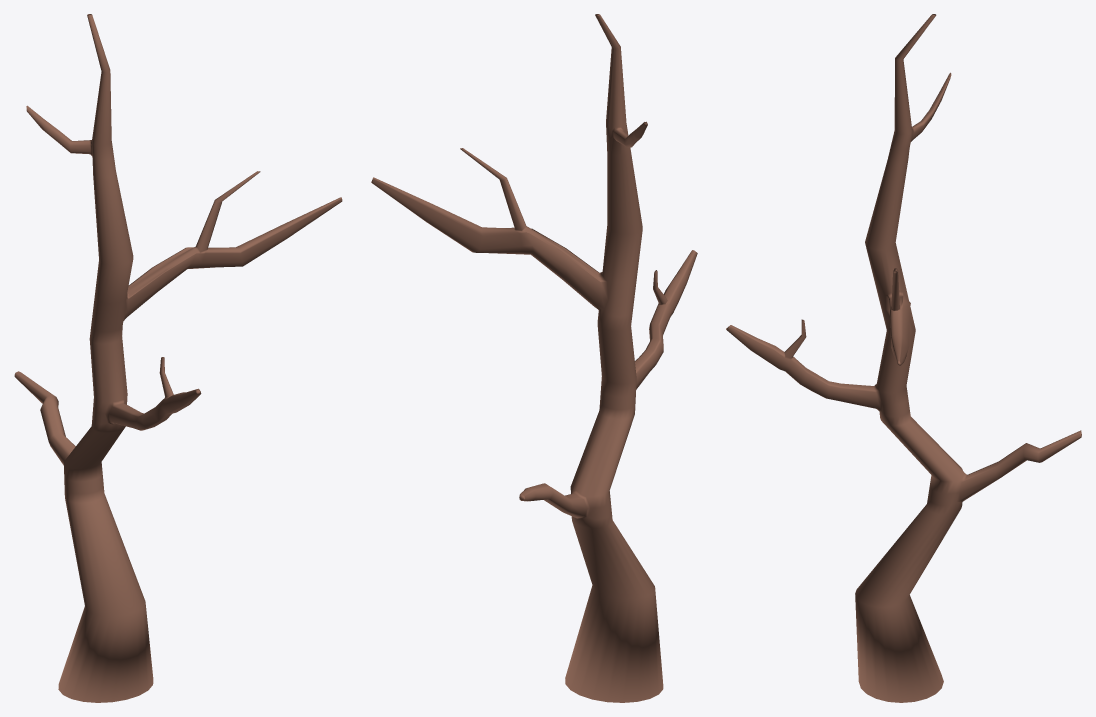
File: ARVORITA2.fbx
3 renders of one model, left to right at view 1: azimuth 30°, elevation 25°; view 2: azimuth 150°, elevation 25°; view 3: azimuth 270°, elevation 25°, orthographic. The views are drawn at different scales.
Visible parts, largest first — view 1: Arvorita2; view 2: Arvorita2; view 3: Arvorita2.
Part boxes in pixels (x1=…): Arvorita2: x1=14, y1=14, x2=342, y2=702; Arvorita2: x1=371, y1=14, x2=697, y2=702; Arvorita2: x1=726, y1=14, x2=1081, y2=702.
Size of the model in its own units: 1.39 by 2.99 by 1.45.
